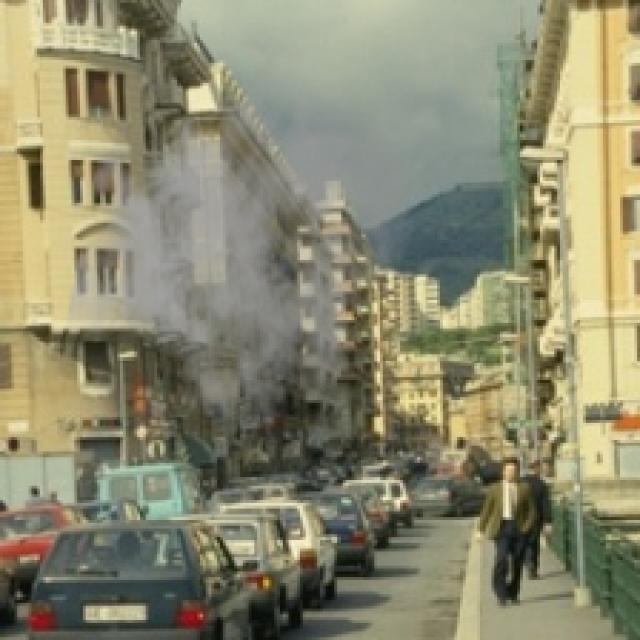Smoke: (63, 52, 420, 434)
